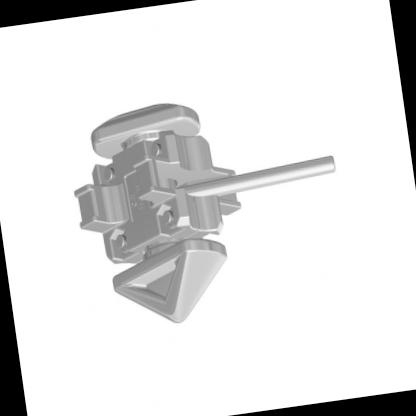Twistlock: (69, 79, 354, 332)
